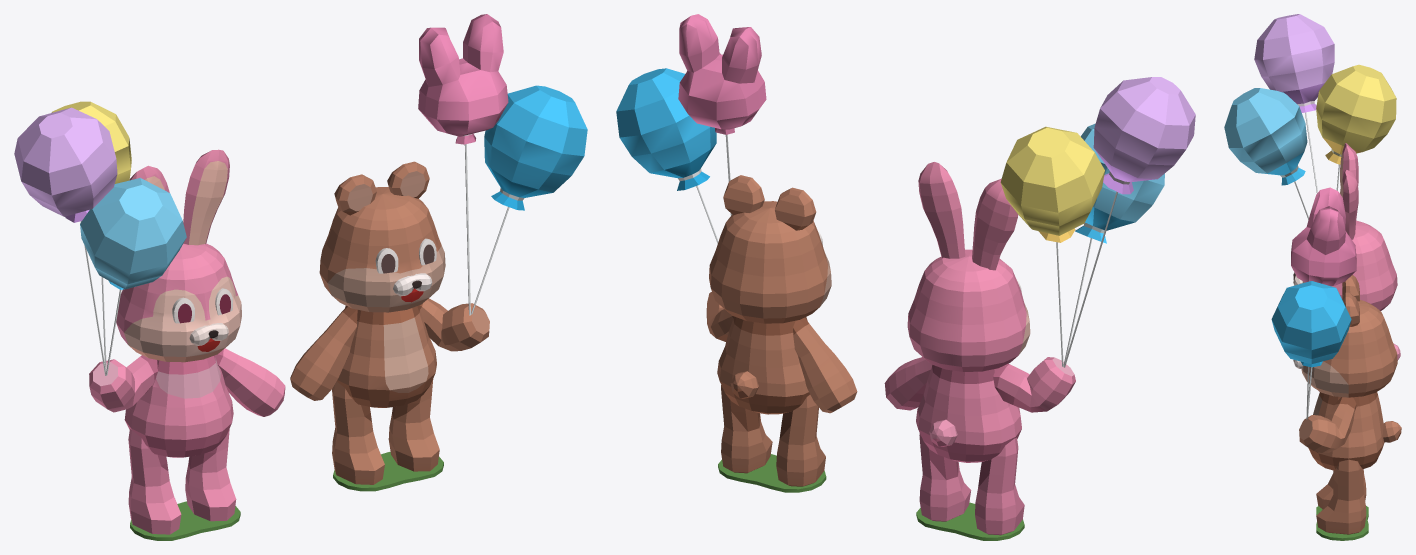
File: bg_other_005.fbx
3 renders of one model, left to right at view 1: azimuth 30°, elevation 25°; view 2: azimuth 150°, elevation 25°; view 3: azimuth 270°, elevation 25°, orthographic. The views are drawn at different scales.
Parts seen in each view (by area): view 1: pCylinder5; view 2: pCylinder5; view 3: pCylinder5.
Boxes of the visible parts, x1,y1,x2,y2 form: pCylinder5: (14, 14, 587, 540); pCylinder5: (616, 14, 1195, 540); pCylinder5: (1224, 14, 1401, 540).
Size of the model in its own units: 455 by 357 by 156.
